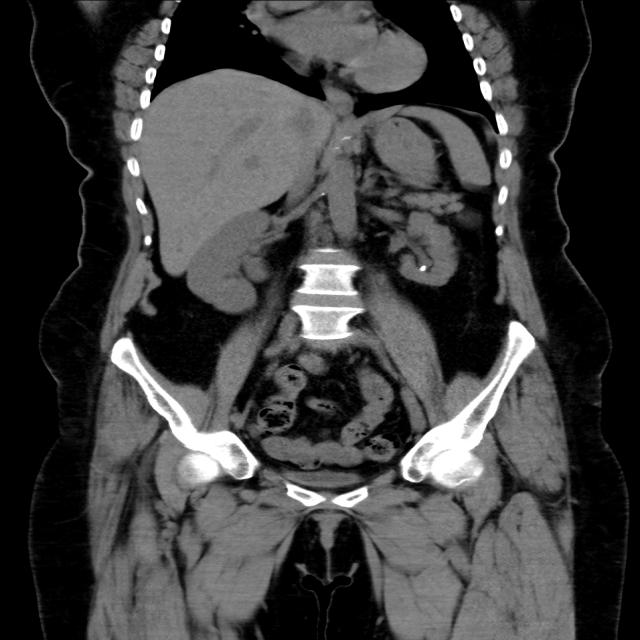kidneystone: (420, 265, 428, 271)
